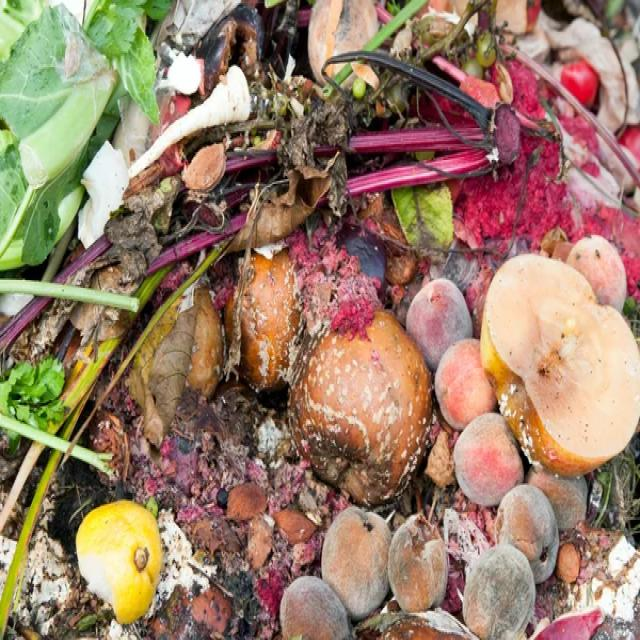Organic: (1, 0, 640, 640), (244, 258, 431, 530), (490, 264, 640, 473), (84, 498, 163, 618)
